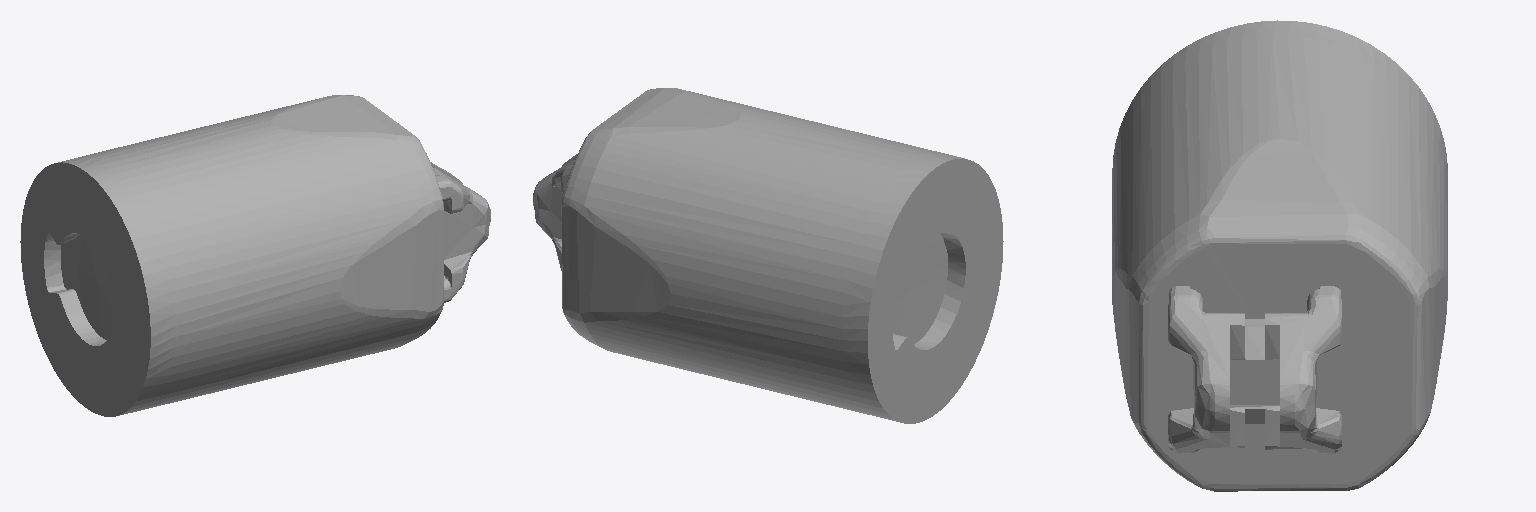
The robot description file, URDF, robot "ur10":
<?xml version="1.0" encoding="utf-8"?>
<!-- =================================================================================== -->
<!-- |    This document was autogenerated by xacro from ur10_robot.urdf.xacro          | -->
<!-- |    EDITING THIS FILE BY HAND IS NOT RECOMMENDED                                 | -->
<!-- =================================================================================== -->
<robot name="ur10">
  <gazebo>
    <plugin filename="libgazebo_ros_control.so" name="ros_control">
      <!--robotNamespace>/</robotNamespace-->
      <!--robotSimType>gazebo_ros_control/DefaultRobotHWSim</robotSimType-->
    </plugin>
    <!--
    <plugin name="gazebo_ros_power_monitor_controller" filename="libgazebo_ros_power_monitor.so">
      <alwaysOn>true</alwaysOn>
      <updateRate>1.0</updateRate>
      <timeout>5</timeout>
      <powerStateTopic>power_state</powerStateTopic>
      <powerStateRate>10.0</powerStateRate>
      <fullChargeCapacity>87.78</fullChargeCapacity>
      <dischargeRate>-474</dischargeRate>
      <chargeRate>525</chargeRate>
      <dischargeVoltage>15.52</dischargeVoltage>
      <chargeVoltage>16.41</chargeVoltage>
    </plugin>
-->
  </gazebo>
  <!--
  Author: [author]
  Contributers: [author], [author], [author]
-->
  <!-- From shadowhand.urdf -->
  <material name="Blue">
    <color rgba="0.0 0.0 0.8 1.0" />
  </material>
  <material name="Green">
    <color rgba="0.0 0.8 0.0 1.0" />
  </material>
  <material name="Grey">
    <color rgba="0.2 0.2 0.2 1.0" />
  </material>
  <material name="LightGrey">
    <color rgba="0.6 0.6 0.6 1.0" />
  </material>
  <material name="Red">
    <color rgba="0.8 0.0 0.0 1.0" />
  </material>
  <material name="White">
    <color rgba="1.0 1.0 1.0 1.0" />
  </material>
  <!-- measured from model -->
  <link name="base_link">
    <visual>
      <geometry>
        <mesh filename="meshes/ur10/visual/base.dae"/>
      </geometry>
      <material name="LightGrey">
        <color rgba="0.7 0.7 0.7 1.0"/>
      </material>
    </visual>
    <collision>
      <geometry>
        <mesh filename="meshes/ur10/collision/base.stl"/>
      </geometry>
    </collision>
    <inertial>
      <mass value="4.0"/>
      <origin rpy="0 0 0" xyz="0.0 0.0 0.0"/>
      <inertia ixx="0.0061063308908" ixy="0.0" ixz="0.0" iyy="0.0061063308908" iyz="0.0" izz="0.01125"/>
    </inertial>
  </link>
  <joint name="shoulder_pan_joint" type="revolute">
    <parent link="base_link"/>
    <child link="shoulder_link"/>
    <origin rpy="0.0 0.0 0.0" xyz="0.0 0.0 0.1273"/>
    <axis xyz="0 0 1"/>
    <limit effort="330.0" lower="-6.28318530718" upper="6.28318530718" velocity="2.16"/>
    <dynamics damping="0.0" friction="0.0"/>
  </joint>
  <link name="shoulder_link">
    <visual>
      <geometry>
        <mesh filename="meshes/ur10/visual/shoulder.dae"/>
      </geometry>
      <material name="LightGrey">
        <color rgba="0.7 0.7 0.7 1.0"/>
      </material>
    </visual>
    <collision>
      <geometry>
        <mesh filename="meshes/ur10/collision/shoulder.stl"/>
      </geometry>
    </collision>
    <inertial>
      <mass value="7.778"/>
      <origin rpy="0 0 0" xyz="0.0 0.0 0.0"/>
      <inertia ixx="0.0314743125769" ixy="0.0" ixz="0.0" iyy="0.0314743125769" iyz="0.0" izz="0.021875625"/>
    </inertial>
  </link>
  <joint name="shoulder_lift_joint" type="revolute">
    <parent link="shoulder_link"/>
    <child link="upper_arm_link"/>
    <origin rpy="0.0 1.57079632679 0.0" xyz="0.0 0.220941 0.0"/>
    <axis xyz="0 1 0"/>
    <limit effort="330.0" lower="-6.28318530718" upper="6.28318530718" velocity="2.16"/>
    <dynamics damping="0.0" friction="0.0"/>
  </joint>
  <link name="upper_arm_link">
    <visual>
      <geometry>
        <mesh filename="meshes/ur10/visual/upperarm.dae"/>
      </geometry>
      <material name="LightGrey">
        <color rgba="0.7 0.7 0.7 1.0"/>
      </material>
    </visual>
    <collision>
      <geometry>
        <mesh filename="meshes/ur10/collision/upperarm.stl"/>
      </geometry>
    </collision>
    <inertial>
      <mass value="12.93"/>
      <origin rpy="0 0 0" xyz="0.0 -0.045 0.306"/>
      <inertia ixx="0.421753803798" ixy="0.0" ixz="0.0" iyy="0.421753803798" iyz="0.0" izz="0.036365625"/>
    </inertial>
  </link>
  <joint name="elbow_joint" type="revolute">
    <parent link="upper_arm_link"/>
    <child link="forearm_link"/>
    <origin rpy="0.0 0.0 0.0" xyz="0.0 -0.1719 0.612"/>
    <axis xyz="0 1 0"/>
    <limit effort="150.0" lower="-3.14159265359" upper="3.14159265359" velocity="3.15"/>
    <dynamics damping="0.0" friction="0.0"/>
  </joint>
  <link name="forearm_link">
    <visual>
      <geometry>
        <mesh filename="meshes/ur10/visual/forearm.dae"/>
      </geometry>
      <material name="LightGrey">
        <color rgba="0.7 0.7 0.7 1.0"/>
      </material>
    </visual>
    <collision>
      <geometry>
        <mesh filename="meshes/ur10/collision/forearm.stl"/>
      </geometry>
    </collision>
    <inertial>
      <mass value="3.87"/>
      <origin rpy="0 0 0" xyz="0.0 0.0 0.28615"/>
      <inertia ixx="0.111069694097" ixy="0.0" ixz="0.0" iyy="0.111069694097" iyz="0.0" izz="0.010884375"/>
    </inertial>
  </link>
  <joint name="wrist_1_joint" type="revolute">
    <parent link="forearm_link"/>
    <child link="wrist_1_link"/>
    <origin rpy="0.0 1.57079632679 0.0" xyz="0.0 0.0 0.5723"/>
    <axis xyz="0 1 0"/>
    <limit effort="54.0" lower="-6.28318530718" upper="6.28318530718" velocity="3.2"/>
    <dynamics damping="0.0" friction="0.0"/>
  </joint>
  <link name="wrist_1_link">
    <visual>
      <geometry>
        <mesh filename="meshes/ur10/visual/wrist1.dae"/>
      </geometry>
      <material name="LightGrey">
        <color rgba="0.7 0.7 0.7 1.0"/>
      </material>
    </visual>
    <collision>
      <geometry>
        <mesh filename="meshes/ur10/collision/wrist1.stl"/>
      </geometry>
    </collision>
    <inertial>
      <mass value="1.96"/>
      <origin rpy="0 0 0" xyz="0.0 0.1149 0.0"/>
      <inertia ixx="0.0051082479567" ixy="0.0" ixz="0.0" iyy="0.0051082479567" iyz="0.0" izz="0.0055125"/>
    </inertial>
  </link>
  <joint name="wrist_2_joint" type="revolute">
    <parent link="wrist_1_link"/>
    <child link="wrist_2_link"/>
    <origin rpy="0.0 0.0 0.0" xyz="0.0 0.1149 0.0"/>
    <axis xyz="0 0 1"/>
    <limit effort="54.0" lower="-6.28318530718" upper="6.28318530718" velocity="3.2"/>
    <dynamics damping="0.0" friction="0.0"/>
  </joint>
  <link name="wrist_2_link">
    <visual>
      <geometry>
        <mesh filename="meshes/ur10/visual/wrist2.dae"/>
      </geometry>
      <material name="LightGrey">
        <color rgba="0.7 0.7 0.7 1.0"/>
      </material>
    </visual>
    <collision>
      <geometry>
        <mesh filename="meshes/ur10/collision/wrist2.stl"/>
      </geometry>
    </collision>
    <inertial>
      <mass value="1.96"/>
      <origin rpy="0 0 0" xyz="0.0 0.0 0.1157"/>
      <inertia ixx="0.0051082479567" ixy="0.0" ixz="0.0" iyy="0.0051082479567" iyz="0.0" izz="0.0055125"/>
    </inertial>
  </link>
  <joint name="wrist_3_joint" type="revolute">
    <parent link="wrist_2_link"/>
    <child link="wrist_3_link"/>
    <origin rpy="0.0 0.0 0.0" xyz="0.0 0.0 0.1157"/>
    <axis xyz="0 1 0"/>
    <limit effort="54.0" lower="-6.28318530718" upper="6.28318530718" velocity="3.2"/>
    <dynamics damping="0.0" friction="0.0"/>
  </joint>
  <link name="wrist_3_link">
    <visual>
      <geometry>
        <mesh filename="meshes/ur10/visual/wrist3.dae"/>
      </geometry>
      <material name="LightGrey">
        <color rgba="0.7 0.7 0.7 1.0"/>
      </material>
    </visual>
    <collision>
      <geometry>
        <mesh filename="meshes/ur10/collision/wrist3.stl"/>
      </geometry>
    </collision>
    <inertial>
      <mass value="0.202"/>
      <origin rpy="1.57079632679 0 0" xyz="0.0 0.07695 0.0"/>
      <inertia ixx="0.000117921661165" ixy="0.0" ixz="0.0" iyy="0.000117921661165" iyz="0.0" izz="0.000204525"/>
    </inertial>
  </link>
   <link name="ee_link">
    <inertial>
      <mass value="0.001" />
      <inertia ixx="0.0" ixy="0.0" ixz="0.0" iyy="0.0" iyz="0.0" izz="0.0" />
    </inertial>
    <collision>
      <geometry>
        <box size="0.01 0.01 0.01"/>
      </geometry>
      <origin rpy="0 0 0" xyz="-0.01 0 0"/>
    </collision>
  </link>
  <joint name="ee_fixed_joint" type="fixed">
    <parent link="wrist_3_link"/>
    <child link="ee_link"/>
    <!--origin rpy="0.0 0.0 1.57079632679" xyz="0.0 0.0922 0.0"/-->
    <origin rpy="-1.57079632679 0.0 0.0" xyz="0.0 0.0922 0.0"/>
  </joint>


<!-- SHADOWHAND -->
 <link name="hand_base">
    <inertial>
      <mass value="0.001" />
      <inertia ixx="0.0" ixy="0.0" ixz="0.0" iyy="0.0" iyz="0.0" izz="0.0" />
    </inertial>
    <visual>
      <origin rpy="0 0 0" xyz="0 0 -0.025" />
      <geometry name="knuckle_visual">
        <cylinder length="0.05" radius="0.05"/>
      </geometry>
      <material name="LightGrey" />
    </visual>
  </link>

    <joint name="ee_to_shadowhand" type="fixed">
    <parent link="ee_link"/>
    <child link="hand_base"/>
    <origin rpy="0.0 0.0 0.0" xyz="0.0 0.0 0.0"/>
  </joint>

  <link name="ff1knuckle">
    <inertial>
      <origin rpy="0 0 0" xyz="0 0 0" />
      <mass value="0.008" />
      <inertia ixx="0.0" ixy="0.0" ixz="0.0" iyy="0.1" iyz="0.0" izz="0.0" />
    </inertial>
    <visual>
      <origin rpy="0 0 0" xyz="0 0 0.0005" />
      <geometry name="knuckle_visual">
        <mesh filename="meshes/shadowhand/knuckle.dae" scale="0.001 0.001 0.001" />
      </geometry>
      <material name="LightGrey" />
    </visual>
    <collision>
      <origin rpy="0 0 0" xyz="0 0 0" />
      <geometry name="knuckle_collision_geom">
        <box size="0.005 0.005 0.005" />
      </geometry>
    </collision>
  </link>
  <joint name="FF1J4" type="revolute">
    <parent link="hand_base" />
    <child link="ff1knuckle" />

    <origin rpy="0 0 0" xyz="0.0 0 0.0" />
    <axis xyz="0 0 1" />
    <limit effort="100" lower="-0.43633231299858238" upper="0.43633231299858238" velocity="1.0" />
    <dynamics damping="50.5" />
  </joint>

  <link name="ff1proximal">
    <inertial>
      <mass value="0.014" />
      <origin xyz="0 0 0.0225" />
      <inertia ixx="0.1" ixy="0.0" ixz="0.0" iyy="0.1" iyz="0.0" izz="0.0" />
    </inertial>
    <visual>
      <origin rpy="0 0 0" xyz="0 0 0" />
      <geometry name="proximal_visual">
        <mesh filename="meshes/shadowhand/F3.dae" scale="0.001 0.001 0.001" />
      </geometry>
      <material name="Grey" />
    </visual>
    <collision>
      <origin rpy="0 0 0 " xyz="0 0 0.025" />
      <geometry name="proximal_collision_geom">
        <box size="0.008 0.008 0.04" />
      </geometry>
    </collision>
  </link>
  <joint name="FF1J3" type="revolute">
    <parent link="ff1knuckle" />
    <child link="ff1proximal" />
    <origin rpy="0 0 0" xyz="0 0 0" />
    <axis xyz="1 0 0" />
    <limit effort="100" lower="0" upper="1.57079632679" velocity="1.0" />
    <dynamics damping="50.5" />
  </joint>
  <link name="ff1middle">
    <inertial>
      <origin rpy="0 0 0" xyz="0 0 0.0125" />
      <mass value="0.012" />
      <inertia ixx="0.1" ixy="0.0" ixz="0.0" iyy="0.1" iyz="0.0" izz="0.0" />
    </inertial>
    <visual>
      <origin rpy="0 0 0" xyz="0 0 0" />
      <geometry name="middle_visual">
        <mesh filename="meshes/shadowhand/F2.dae" scale="0.001 0.001 0.001" />
      </geometry>
      <material name="Grey" />
    </visual>
    <collision>
      <origin rpy="0 0 0" xyz="0 0 0.0125" />
      <geometry name="middle_collision_geom">
        <box size="0.008 0.008 0.015" />
      </geometry>
    </collision>
  </link>
  <joint name="FF1J2" type="revolute">
    <parent link="ff1proximal" />
    <child link="ff1middle" />
    <origin rpy="0 0 0" xyz="0 0 0.045" />
    <axis xyz="1 0 0" />
    <limit effort="100" lower="0" upper="1.57079632679" velocity="1.0" />
    <dynamics damping="50.5" />
  </joint>
  <link name="ff1distal">
    <inertial>
      <mass value="0.010" />
      <origin xyz="0 0 0.013" />
      <inertia ixx="0.1" ixy="0.0" ixz="0.0" iyy="0.1" iyz="0.0" izz="0.0" />
    </inertial>
    <visual>
      <origin rpy="0 0 0" xyz="0 0 0" />
      <geometry name="distal_visual">
        <mesh filename="meshes/shadowhand/distal_ellipsoid.dae" scale="0.001 0.001 0.001" />
      </geometry>
      <material name="Grey" />
    </visual>

    <collision>
      <origin rpy="0 0 0" xyz="0 0 0" />
      <geometry name="distal_collision_geom">
        <mesh filename="meshes/shadowhand/distal_ellipsoid.dae" scale="0.001 0.001 0.001" />
      </geometry>
    </collision>
  </link>
  <joint name="FF1J1" type="revolute">
    <parent link="ff1middle" />
    <child link="ff1distal" />
    <origin rpy="0 0 0" xyz="0 0 0.025" />
    <axis xyz="1 0 0" />
    <limit effort="100" lower="0" upper="1.57079632679" velocity="1.0" />
    <dynamics damping="50.5" />
  </joint>
  <link name="ff1tip">
    <inertial>
      <mass value="0.001" />
      <inertia ixx="0.0" ixy="0.0" ixz="0.0" iyy="0.0" iyz="0.0" izz="0.0" />
    </inertial>
  </link>
  <joint name="FF1tip" type="fixed">
    <parent link="ff1distal" />
    <child link="ff1tip" />
    <origin rpy="0 0 0" xyz="0 0 0.026" />
  </joint>
<!-- SECOND FINGER -->
  <link name="ff2knuckle">
    <inertial>
      <origin rpy="0 0 0" xyz="0 0 0" />

      <mass value="0.008" />
      <inertia ixx="0.0" ixy="0.0" ixz="0.0" iyy="0.1" iyz="0.0" izz="0.0" />
    </inertial>
    <visual>
      <origin rpy="0 0 0" xyz="0 0 0.0005" />
      <geometry name="knuckle_visual">
        <mesh filename="meshes/shadowhand/knuckle.dae" scale="0.001 0.001 0.001" />
      </geometry>
      <material name="LightGrey" />
    </visual>
    <collision>
      <origin rpy="0 0 0" xyz="0 0 0" />
      <geometry name="knuckle_collision_geom">
        <box size="0.005 0.005 0.005" />
      </geometry>
    </collision>
  </link>
  <joint name="FF2J4" type="revolute">
    <parent link="hand_base" />
    <child link="ff2knuckle" />
    <origin rpy="0 0 0" xyz="0.0 0 0.0" />
    <axis xyz="0 0 1" />
    <limit effort="100" lower="-0.43633231299858238" upper="0.43633231299858238" velocity="1.0" />
    <dynamics damping="50.5" />
  </joint>
  <link name="ff2proximal">
    <inertial>
      <mass value="0.014" />
      <origin xyz="0 0 0.0225" />
      <inertia ixx="0.1" ixy="0.0" ixz="0.0" iyy="0.1" iyz="0.0" izz="0.0" />
    </inertial>
    <visual>
      <origin rpy="0 0 0" xyz="0 0 0" />
      <geometry name="proximal_visual">
        <mesh filename="meshes/shadowhand/F3.dae" scale="0.001 0.001 0.001" />
      </geometry>
      <material name="Grey" />
    </visual>
    <collision>
      <origin rpy="0 0 0 " xyz="0 0 0.025" />
      <geometry name="proximal_collision_geom">
        <box size="0.008 0.008 0.04" />
      </geometry>
    </collision>
  </link>
  <joint name="FF2J3" type="revolute">
    <parent link="ff2knuckle" />
    <child link="ff2proximal" />
    <origin rpy="0 0 0" xyz="0 0 0" />
    <axis xyz="1 0 0" />
    <limit effort="100" lower="0" upper="1.57079632679" velocity="1.0" />
    <dynamics damping="50.5" />
  </joint>
  <link name="ff2middle">
    <inertial>
      <origin rpy="0 0 0" xyz="0 0 0.0125" />
      <mass value="0.012" />
      <inertia ixx="0.1" ixy="0.0" ixz="0.0" iyy="0.1" iyz="0.0" izz="0.0" />
    </inertial>
    <visual>
      <origin rpy="0 0 0" xyz="0 0 0" />
      <geometry name="middle_visual">
        <mesh filename="meshes/shadowhand/F2.dae" scale="0.001 0.001 0.001" />
      </geometry>
      <material name="Grey" />
    </visual>
    <collision>
      <origin rpy="0 0 0" xyz="0 0 0.0125" />
      <geometry name="middle_collision_geom">
        <box size="0.008 0.008 0.015" />
      </geometry>
    </collision>
  </link>
  <joint name="FF2J2" type="revolute">
    <parent link="ff2proximal" />
    <child link="ff2middle" />
    <origin rpy="0 0 0" xyz="0 0 0.045" />
    <axis xyz="1 0 0" />
    <limit effort="100" lower="0" upper="1.57079632679" velocity="1.0" />
    <dynamics damping="50.5" />
  </joint>
  <link name="ff2distal">
    <inertial>
      <mass value="0.010" />
      <origin xyz="0 0 0.013" />
      <inertia ixx="0.1" ixy="0.0" ixz="0.0" iyy="0.1" iyz="0.0" izz="0.0" />
    </inertial>
    <visual>
      <origin rpy="0 0 0" xyz="0 0 0" />
      <geometry name="distal_visual">
        <mesh filename="meshes/shadowhand/distal_ellipsoid.dae" scale="0.001 0.001 0.001" />
      </geometry>
      <material name="Grey" />
    </visual>

    <collision>
      <origin rpy="0 0 0" xyz="0 0 0" />
      <geometry name="distal_collision_geom">
        <mesh filename="meshes/shadowhand/distal_ellipsoid.dae" scale="0.001 0.001 0.001" />
      </geometry>
    </collision>
  </link>
  <joint name="FF2J1" type="revolute">
    <parent link="ff2middle" />
    <child link="ff2distal" />
    <origin rpy="0 0 0" xyz="0 0 0.025" />
    <axis xyz="1 0 0" />
    <limit effort="100" lower="0" upper="1.57079632679" velocity="1.0" />
    <dynamics damping="50.5" />
  </joint>
  <link name="ff2tip">
    <inertial>
      <mass value="0.001" />
      <inertia ixx="0.0" ixy="0.0" ixz="0.0" iyy="0.0" iyz="0.0" izz="0.0" />
    </inertial>
  </link>
  <joint name="FF2tip" type="fixed">
    <parent link="ff2distal" />
    <child link="ff2tip" />
    <origin rpy="0 0 0" xyz="0 0 0.026" />
  </joint>

<!-- THIRD FINGER -->
  <link name="ff3knuckle">
    <inertial>
      <origin rpy="0 0 0" xyz="0 0 0" />

      <mass value="0.008" />
      <inertia ixx="0.0" ixy="0.0" ixz="0.0" iyy="0.1" iyz="0.0" izz="0.0" />
    </inertial>
    <visual>
      <origin rpy="0 0 0" xyz="0 0 0.0005" />
      <geometry name="knuckle_visual">
        <mesh filename="meshes/shadowhand/knuckle.dae" scale="0.001 0.001 0.001" />
      </geometry>
      <material name="LightGrey" />
    </visual>
    <collision>
      <origin rpy="0 0 0" xyz="0 0 0" />
      <geometry name="knuckle_collision_geom">
        <box size="0.005 0.005 0.005" />
      </geometry>
    </collision>
  </link>
  <joint name="FF3J4" type="revolute">
    <parent link="hand_base" />
    <child link="ff3knuckle" />
    <origin rpy="0 0 0" xyz="0.0 0 0.0" />
    <axis xyz="0 0 1" />
    <limit effort="100" lower="-0.43633231299858238" upper="0.43633231299858238" velocity="1.0" />
    <dynamics damping="50.5" />
  </joint>
  <link name="ff3proximal">
    <inertial>
      <mass value="0.014" />
      <origin xyz="0 0 0.0225" />
      <inertia ixx="0.1" ixy="0.0" ixz="0.0" iyy="0.1" iyz="0.0" izz="0.0" />
    </inertial>
    <visual>
      <origin rpy="0 0 0" xyz="0 0 0" />
      <geometry name="proximal_visual">
        <mesh filename="meshes/shadowhand/F3.dae" scale="0.001 0.001 0.001" />
      </geometry>
      <material name="Grey" />
    </visual>
    <collision>
      <origin rpy="0 0 0 " xyz="0 0 0.025" />
      <geometry name="proximal_collision_geom">
        <box size="0.008 0.008 0.04" />
      </geometry>
    </collision>
  </link>
  <joint name="FF3J3" type="revolute">
    <parent link="ff3knuckle" />
    <child link="ff3proximal" />
    <origin rpy="0 0 0" xyz="0 0 0" />
    <axis xyz="1 0 0" />
    <limit effort="100" lower="0" upper="1.57079632679" velocity="1.0" />
    <dynamics damping="50.5" />
  </joint>
  <link name="ff3middle">
    <inertial>
      <origin rpy="0 0 0" xyz="0 0 0.0125" />
      <mass value="0.012" />
      <inertia ixx="0.1" ixy="0.0" ixz="0.0" iyy="0.1" iyz="0.0" izz="0.0" />
    </inertial>
    <visual>
      <origin rpy="0 0 0" xyz="0 0 0" />
      <geometry name="middle_visual">
        <mesh filename="meshes/shadowhand/F2.dae" scale="0.001 0.001 0.001" />
      </geometry>
      <material name="Grey" />
    </visual>
    <collision>
      <origin rpy="0 0 0" xyz="0 0 0.0125" />
      <geometry name="middle_collision_geom">
        <box size="0.008 0.008 0.015" />
      </geometry>
    </collision>
  </link>
  <joint name="FF3J2" type="revolute">
    <parent link="ff3proximal" />
    <child link="ff3middle" />
    <origin rpy="0 0 0" xyz="0 0 0.045" />
    <axis xyz="1 0 0" />
    <limit effort="100" lower="0" upper="1.57079632679" velocity="1.0" />
    <dynamics damping="50.5" />
  </joint>
  <link name="ff3distal">
    <inertial>
      <mass value="0.010" />
      <origin xyz="0 0 0.013" />
      <inertia ixx="0.1" ixy="0.0" ixz="0.0" iyy="0.1" iyz="0.0" izz="0.0" />
    </inertial>
    <visual>
      <origin rpy="0 0 0" xyz="0 0 0" />
      <geometry name="distal_visual">
        <mesh filename="meshes/shadowhand/distal_ellipsoid.dae" scale="0.001 0.001 0.001" />
      </geometry>
      <material name="Grey" />
    </visual>

    <collision>
      <origin rpy="0 0 0" xyz="0 0 0" />
      <geometry name="distal_collision_geom">
        <mesh filename="meshes/shadowhand/distal_ellipsoid.dae" scale="0.001 0.001 0.001" />
      </geometry>
    </collision>
  </link>
  <joint name="FF3J1" type="revolute">
    <parent link="ff3middle" />
    <child link="ff3distal" />
    <origin rpy="0 0 0" xyz="0 0 0.025" />
    <axis xyz="1 0 0" />
    <limit effort="100" lower="0" upper="1.57079632679" velocity="1.0" />
    <dynamics damping="50.5" />
  </joint>
  <link name="ff3tip">
    <inertial>
      <mass value="0.001" />
      <inertia ixx="0.0" ixy="0.0" ixz="0.0" iyy="0.0" iyz="0.0" izz="0.0" />
    </inertial>
  </link>
  <joint name="FF3tip" type="fixed">
    <parent link="ff3distal" />
    <child link="ff3tip" />
    <origin rpy="0 0 0" xyz="0 0 0.026" />
  </joint>

  <link name="world"/>
  <joint name="world_joint" type="fixed">
    <parent link="world"/>
    <child link="base_link"/>
    <origin rpy="0.0 0.0 0.0" xyz="0.0 0.0 0.0"/>
  </joint>
</robot>

--- Render facts (derived) ---
The picture shows the robot from 3 angles, left to right: view 1: azimuth 30°, elevation 25°; view 2: azimuth 150°, elevation 25°; view 3: azimuth 270°, elevation 25°; orthographic projection.
Model ur10 with 25 links and 24 joints (18 revolute, 6 fixed), rooted at world, posed all joints at 0.
Links seen in each view (by area): view 1: forearm_link; view 2: forearm_link; view 3: forearm_link.
Link boxes in pixels (box(x1,y1,x2,y2)): forearm_link: box(20, 95, 490, 416); forearm_link: box(533, 88, 1003, 423); forearm_link: box(1112, 20, 1447, 491).
Size in the robot's own frame: 2.28 by 1.35 by 1.35 metres.
14 mesh visuals loaded from 11 distinct referenced files (6 Collada DAE); not drawn: 5 (reference not matched to a file when rendering).